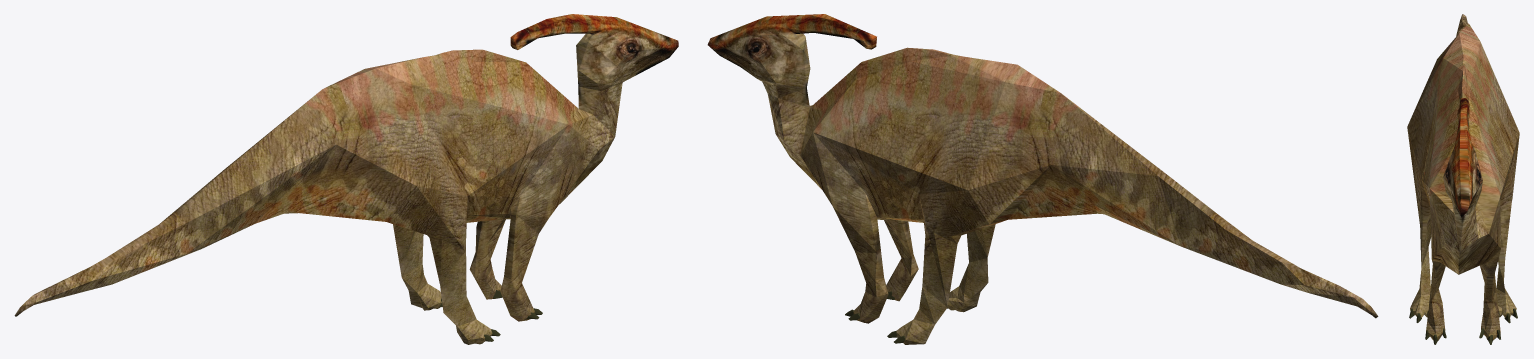
File: parasau.obj
3 renders of one model, left to right at view 1: azimuth 30°, elevation 25°; view 2: azimuth 150°, elevation 25°; view 3: azimuth 270°, elevation 25°, orthographic. The views are drawn at different scales.
Visible parts, largest first — view 1: dinopoli; view 2: dinopoli; view 3: dinopoli.
Boxes of the visible parts, x1,y1,x2,y2 form: dinopoli: [14, 14, 678, 344]; dinopoli: [707, 14, 1378, 344]; dinopoli: [1407, 14, 1519, 340].
Bounding box in the file's own units: 18863 × 7629 × 3090.
3 materials, 1 textured.
